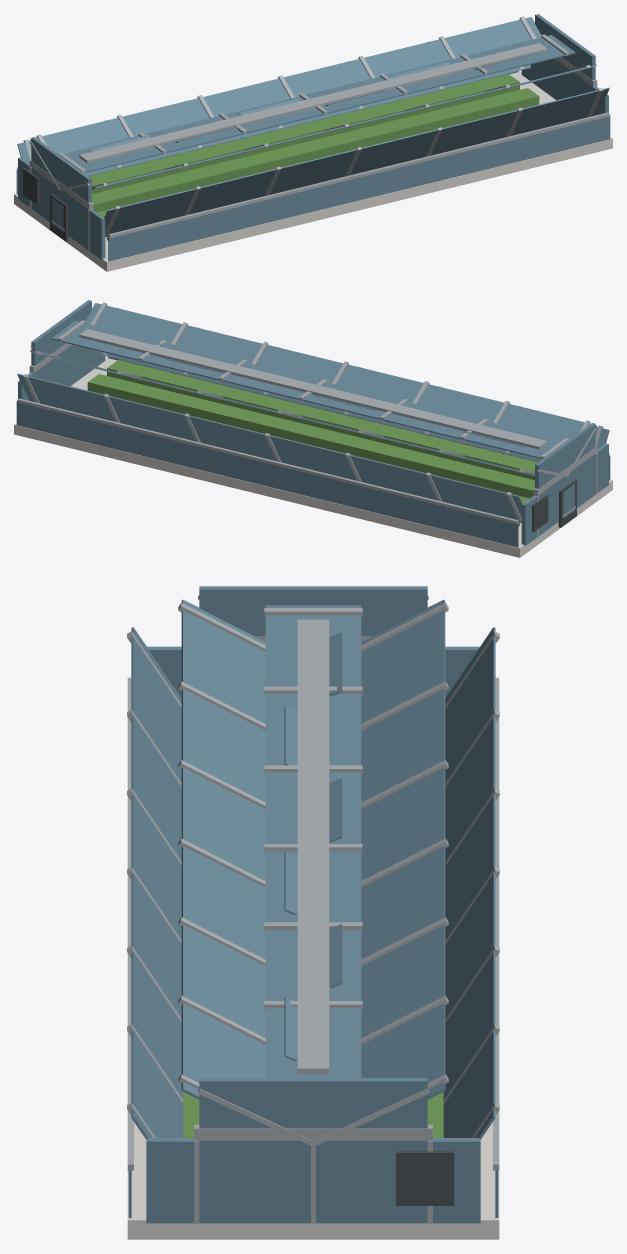
The model's file is greenhouse.glb.
3 views of the same model, one above another, from view 1: azimuth 30°, elevation 25°; view 2: azimuth 150°, elevation 25°; view 3: azimuth 270°, elevation 25° (orthographic). The views are drawn at different scales.
Parts seen in each view (by area): view 1: Merged_PropsGlass, Merged_CityFieldGreen, Merged_PropsMetal, gh_base, Merged_WindowFrame; view 2: Merged_PropsGlass, Merged_CityFieldGreen, Merged_PropsMetal, gh_base, Merged_WindowFrame; view 3: Merged_PropsGlass, Merged_PropsMetal, gh_base, Merged_WindowFrame, Merged_CityFieldGreen.
Part boxes in pixels (x1=…): Merged_PropsGlass: x1=16, y1=14, x2=610, y2=261; Merged_CityFieldGreen: x1=89, y1=74, x2=539, y2=240; Merged_PropsMetal: x1=17, y1=16, x2=609, y2=251; gh_base: x1=14, y1=71, x2=612, y2=271; Merged_WindowFrame: x1=23, y1=168, x2=68, y2=241; Merged_PropsGlass: x1=16, y1=300, x2=610, y2=547; Merged_CityFieldGreen: x1=87, y1=360, x2=537, y2=526; Merged_PropsMetal: x1=17, y1=302, x2=609, y2=537; gh_base: x1=14, y1=357, x2=612, y2=557; Merged_WindowFrame: x1=532, y1=480, x2=576, y2=532; Merged_PropsGlass: x1=128, y1=586, x2=498, y2=1223; Merged_PropsMetal: x1=127, y1=595, x2=499, y2=1223; gh_base: x1=127, y1=1122, x2=499, y2=1239; Merged_WindowFrame: x1=396, y1=1151, x2=454, y2=1205; Merged_CityFieldGreen: x1=183, y1=1092, x2=443, y2=1137.
Bounding box in the file's own units: 44.46 × 6.6 × 14.05.
